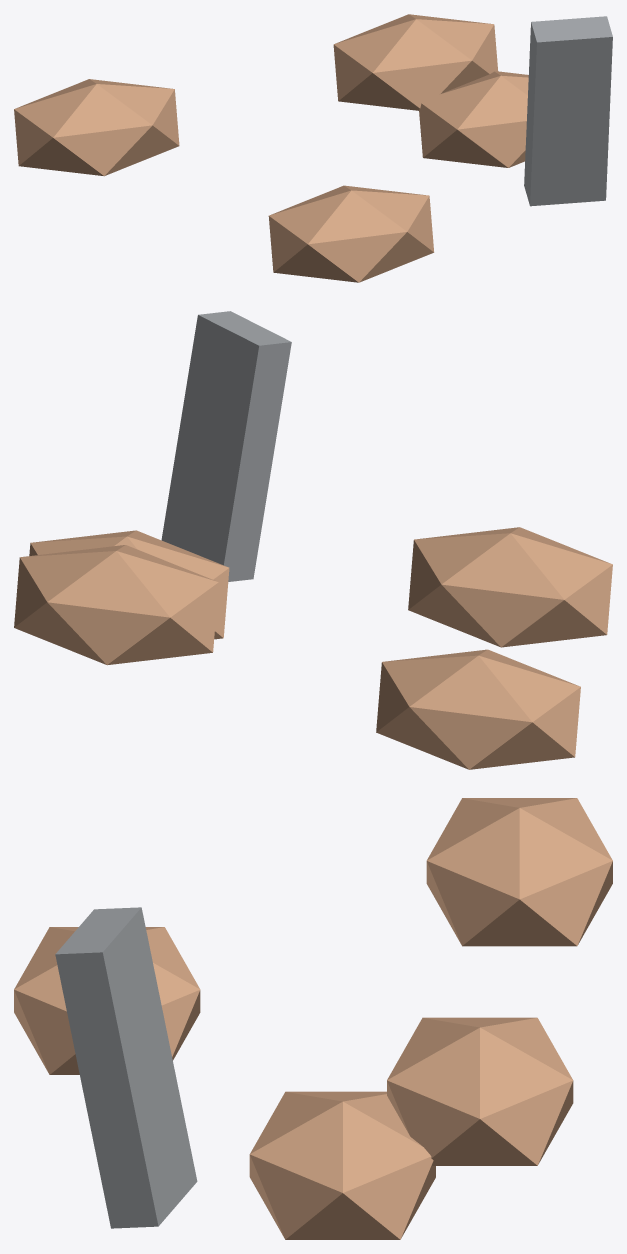
The model's file is harthmere_river_clay.lod1.glb.
3 renders of one model, top to bottom at view 1: azimuth 30°, elevation 25°; view 2: azimuth 150°, elevation 25°; view 3: azimuth 270°, elevation 25°, orthographic. The views are drawn at different scales.
Size of the model in its own units: 1.65 by 0.6317 by 1.16.
